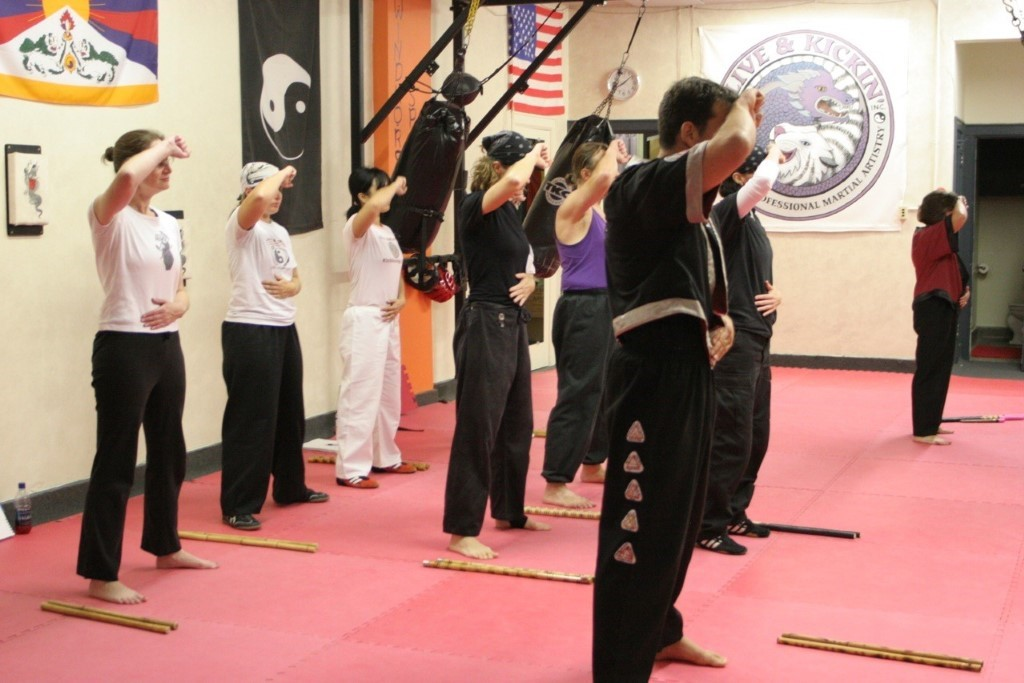baston_e: (781, 636, 976, 672), (787, 631, 977, 664), (44, 601, 163, 633), (426, 560, 581, 583), (177, 529, 309, 554), (52, 599, 170, 625), (757, 520, 853, 539), (524, 505, 600, 519)
baston_v: (166, 616, 183, 633), (156, 624, 172, 639), (579, 574, 593, 585), (38, 600, 48, 613), (419, 558, 431, 568), (854, 529, 865, 539), (773, 634, 782, 644), (977, 657, 987, 665), (311, 541, 320, 549), (45, 597, 55, 604), (778, 630, 787, 637), (975, 663, 982, 672), (850, 532, 857, 540), (309, 547, 317, 553)
